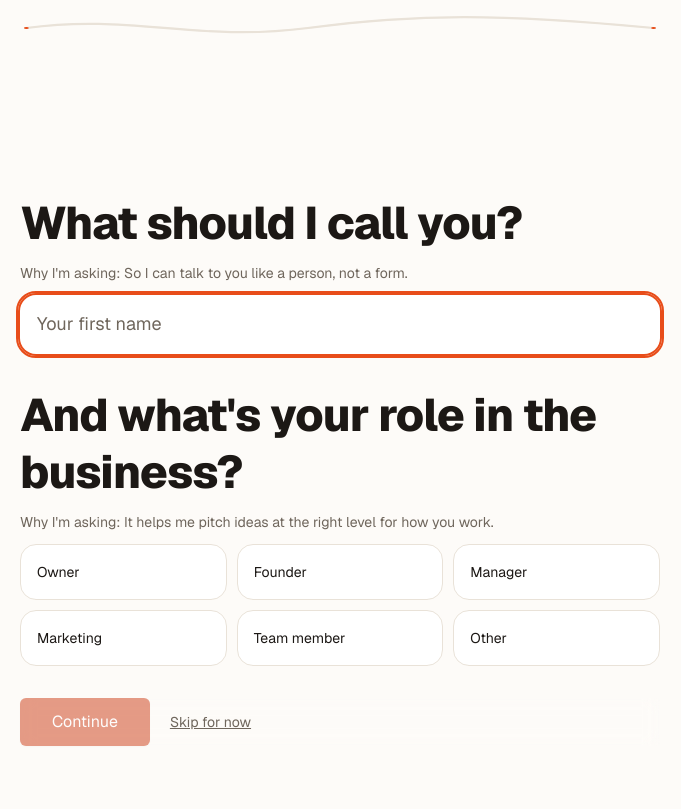
Test case: ConversationShell › resume and persistence › keeps going when a save fails, and tells the owner their answers are safe
Type "Asha" into the field at x=340, y=325, box [20, 296, 660, 354]
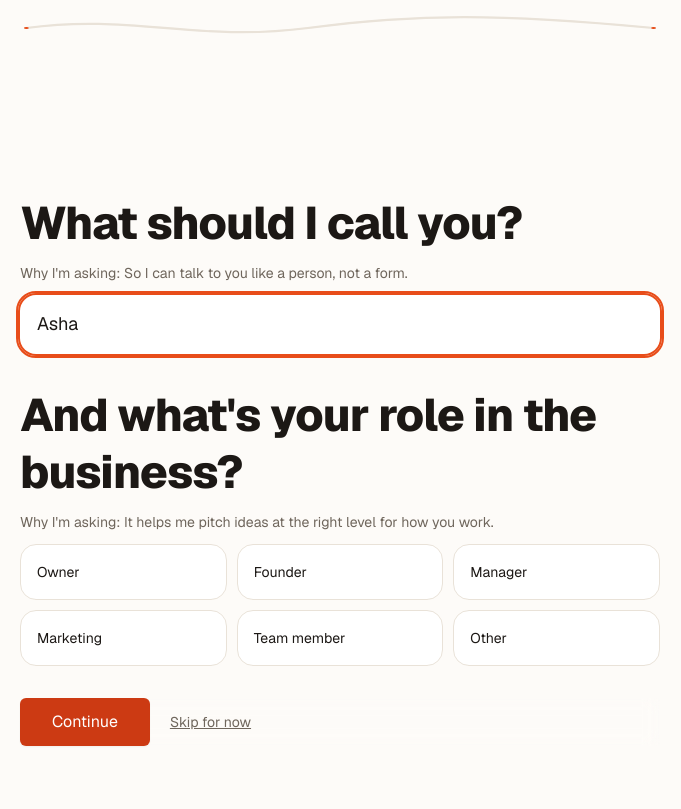
Click the button "Continue" at x=85, y=722, box [20, 698, 150, 746]
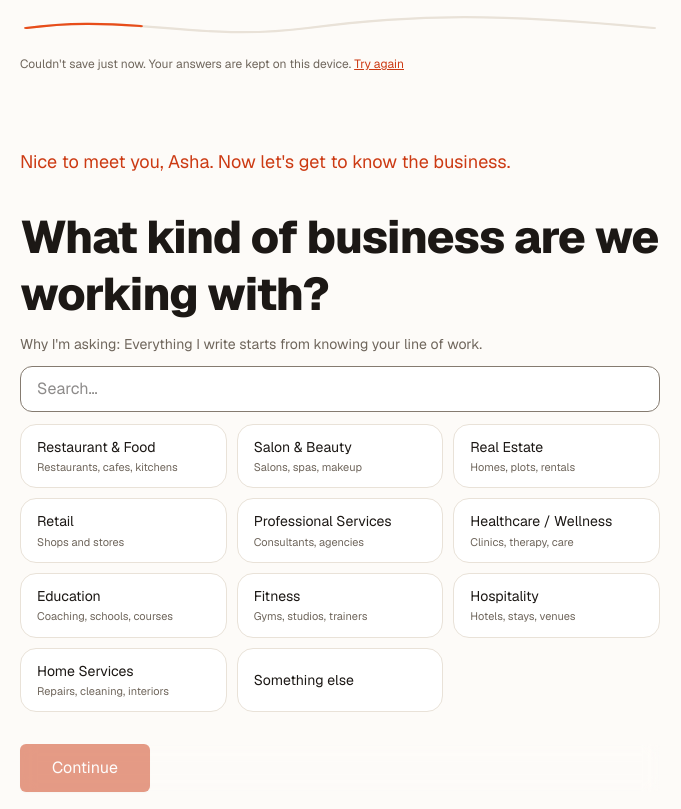
Expected: the text "Couldn't save just now" is shown, [20, 56, 351, 72]
Expected: the button "Try again" is shown, [354, 56, 404, 72]
Expected: the heading "What kind of business are we working with?" is shown, [20, 208, 660, 322]
